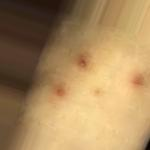Ants: (130, 70, 148, 89), (51, 82, 67, 97), (76, 54, 86, 68), (91, 88, 105, 96)
